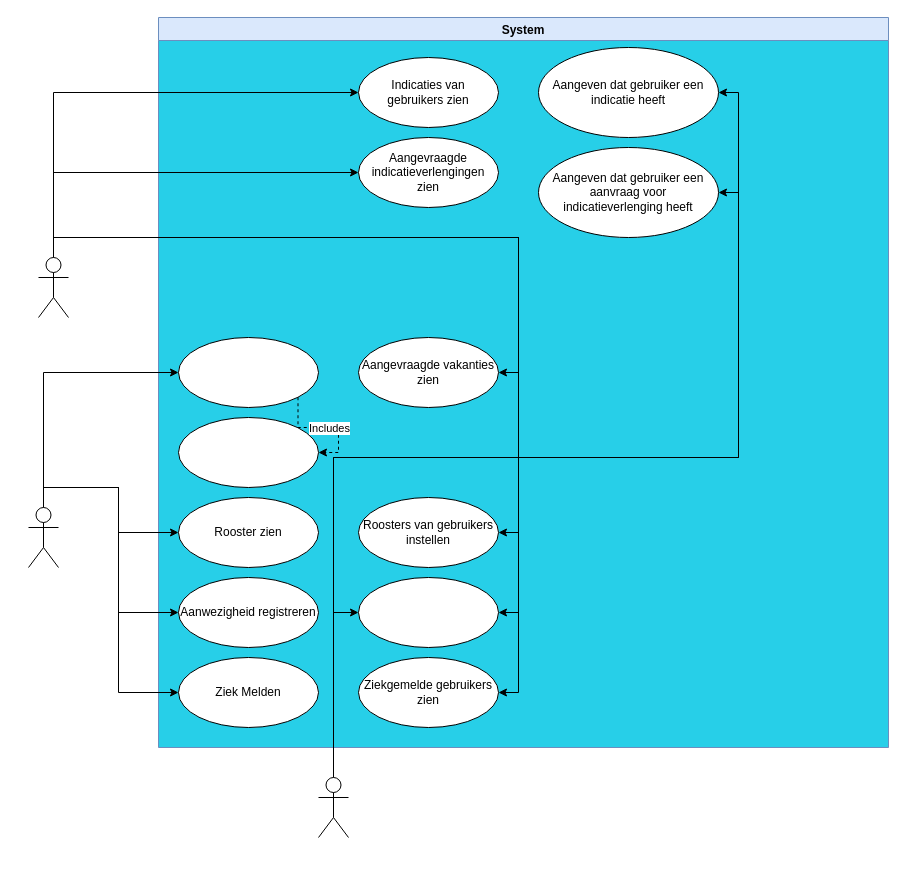
Image size: 906x876. Some labels were removed from this diagram. Each missing label, with the centre of its shape:
"Aanwezigheid van gebruikers zien" goes at pixel 428 612.
"Begeleider" goes at pixel 53 287.
"Gebruiker" goes at pixel 43 537.
"Resterende vakantiedagen zien" goes at pixel 248 452.
"Vakantie aanvragen" goes at pixel 248 372.
"Wijkcoach" goes at pixel 333 807.
